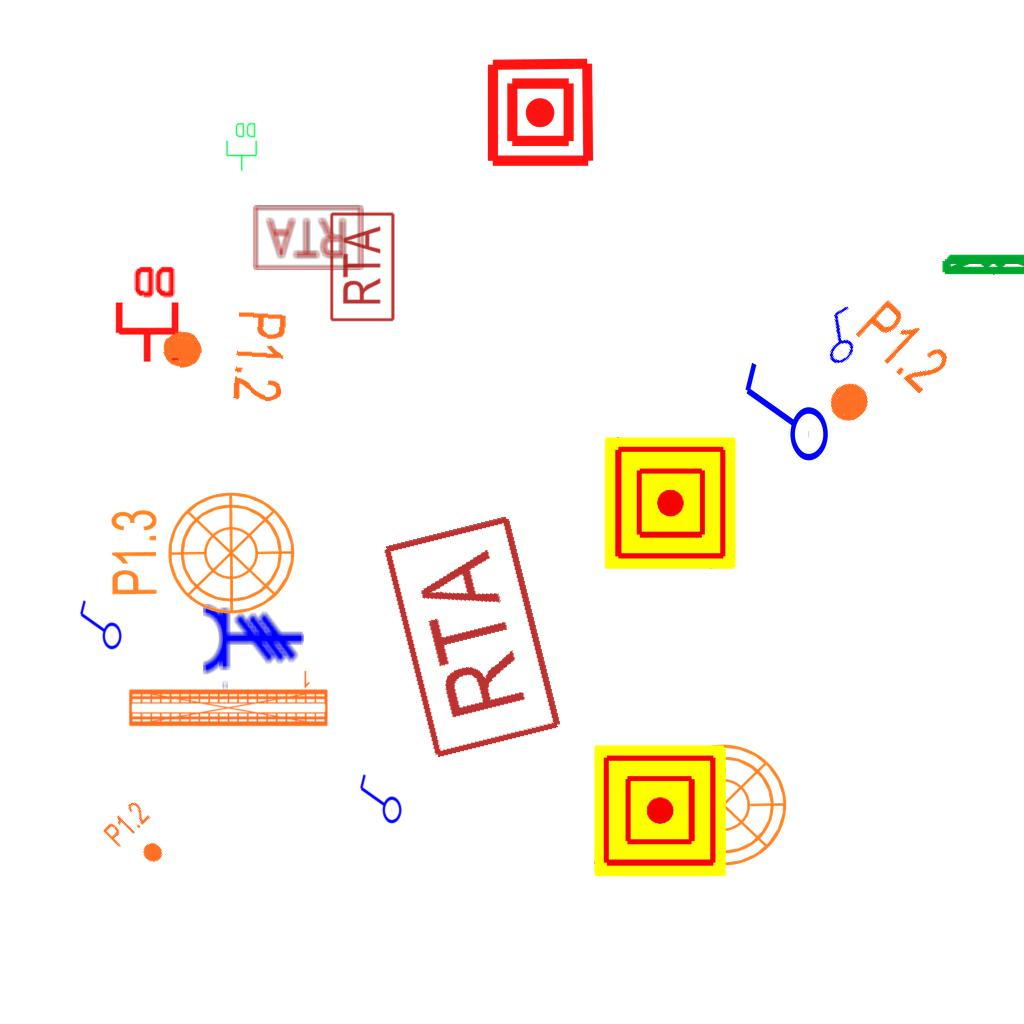Aufbaurundleuchte_LED_Treppenhaus: (93, 478, 298, 617), (585, 730, 790, 869)
Ausschalter: (735, 360, 831, 472), (802, 299, 876, 373), (355, 773, 403, 829), (75, 599, 123, 655)
Buero_Pendelleuchten_LED: (125, 666, 331, 731)
CEE_Drehstrom_Steckdose_16_32_A: (201, 602, 305, 692)
Datenanschluss_zweifach: (111, 262, 180, 365), (225, 121, 259, 172)
Downlight_LED_Einbauleuchten_Flur: (800, 294, 957, 452), (156, 303, 291, 405), (100, 798, 178, 876)
NAM-Nichtautomatischer_Melder: (604, 437, 736, 569), (594, 745, 726, 877), (484, 56, 597, 169)
Ruf-und_Abstelltaster: (378, 511, 568, 767), (328, 211, 397, 325), (252, 203, 366, 272)
Sicherheitsleuchte_Wandeinbau: (939, 251, 1024, 276)
